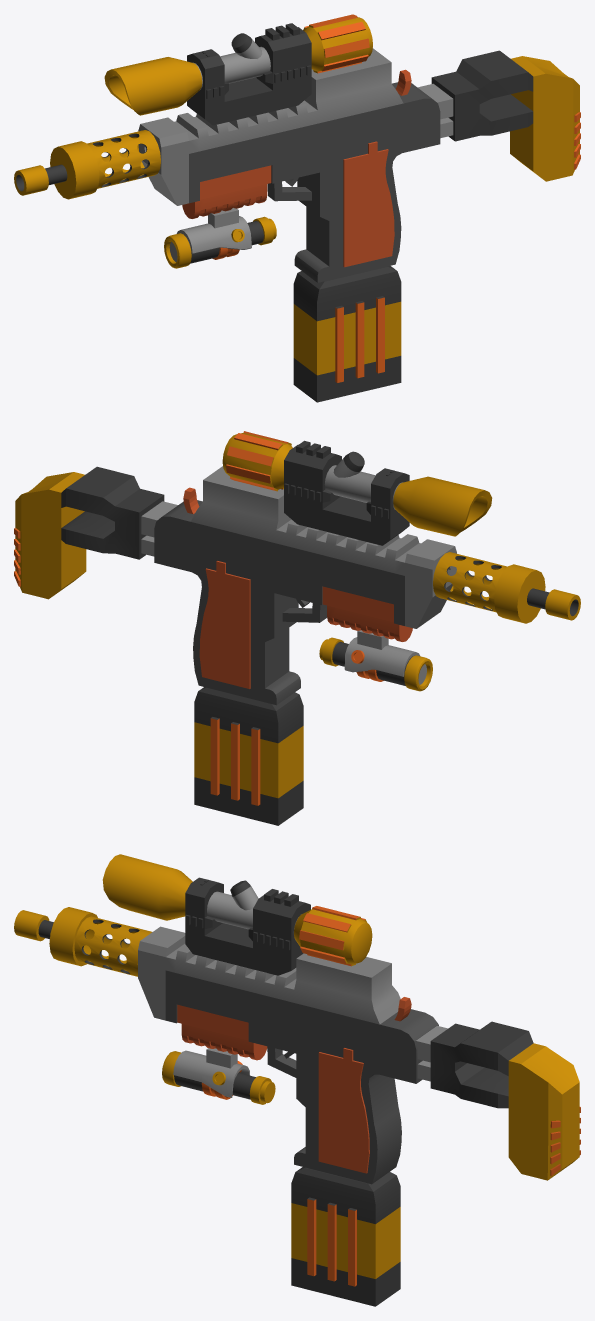
File: gun parts.fbx
The picture shows the model from 3 angles, top to bottom: view 1: azimuth 30°, elevation 25°; view 2: azimuth 150°, elevation 25°; view 3: azimuth 330°, elevation 25°; orthographic projection.
Visible parts, largest first — view 1: WeaponLevel1, top part, left part, bottom part, right part, bottom part.001; view 2: WeaponLevel1, top part, left part, bottom part, right part, bottom part.001; view 3: WeaponLevel1, top part, left part, bottom part, right part, bottom part.001.
Part boxes in pixels (left/top/right/bottom): WeaponLevel1: left=138, top=48, right=440, bottom=282; top part: left=104, top=14, right=372, bottom=125; left part: left=417, top=50, right=580, bottom=181; bottom part: left=293, top=266, right=401, bottom=402; right part: left=14, top=130, right=160, bottom=199; bottom part.001: left=164, top=208, right=276, bottom=268; WeaponLevel1: left=154, top=466, right=456, bottom=705; top part: left=222, top=431, right=492, bottom=545; left part: left=14, top=466, right=177, bottom=599; bottom part: left=194, top=687, right=303, bottom=825; right part: left=433, top=552, right=580, bottom=623; bottom part.001: left=319, top=630, right=432, bottom=691; WeaponLevel1: left=138, top=926, right=438, bottom=1184; top part: left=102, top=854, right=372, bottom=975; left part: left=416, top=1021, right=580, bottom=1180; bottom part: left=291, top=1167, right=400, bottom=1306; right part: left=14, top=907, right=151, bottom=976; bottom part.001: left=162, top=1048, right=275, bottom=1104.
Size of the model in its own units: 1.65 by 1.08 by 0.1695.
